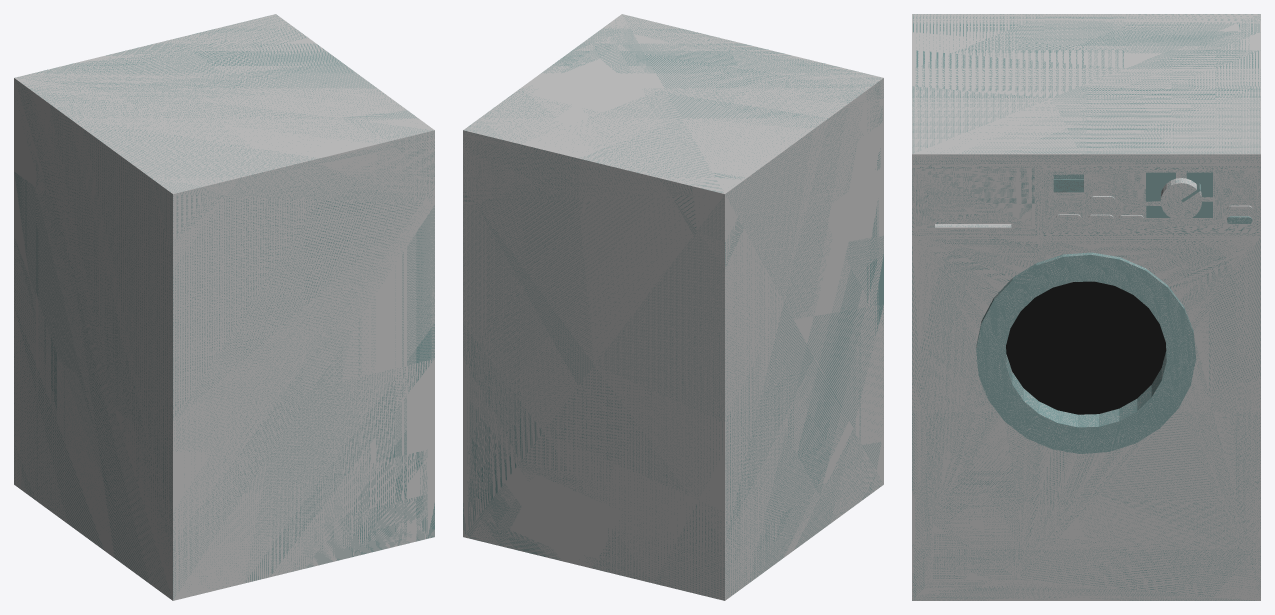
The picture shows the model from 3 angles, left to right: view 1: azimuth 30°, elevation 25°; view 2: azimuth 150°, elevation 25°; view 3: azimuth 270°, elevation 25°; orthographic projection. The views are drawn at different scales.
Parts seen in each view (by area): view 1: mesh1_mesh1-geometry; view 2: mesh1_mesh1-geometry; view 3: mesh1_mesh1-geometry.
Part boxes in pixels (left/top/right/bottom): mesh1_mesh1-geometry: left=14, top=14, right=434, bottom=600; mesh1_mesh1-geometry: left=463, top=14, right=883, bottom=600; mesh1_mesh1-geometry: left=912, top=14, right=1260, bottom=600.
Size of the model in its own units: 0.4973 by 0.7081 by 0.5013.
